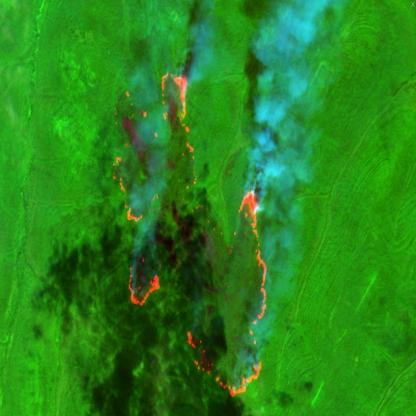fire: (113, 69, 268, 399)
